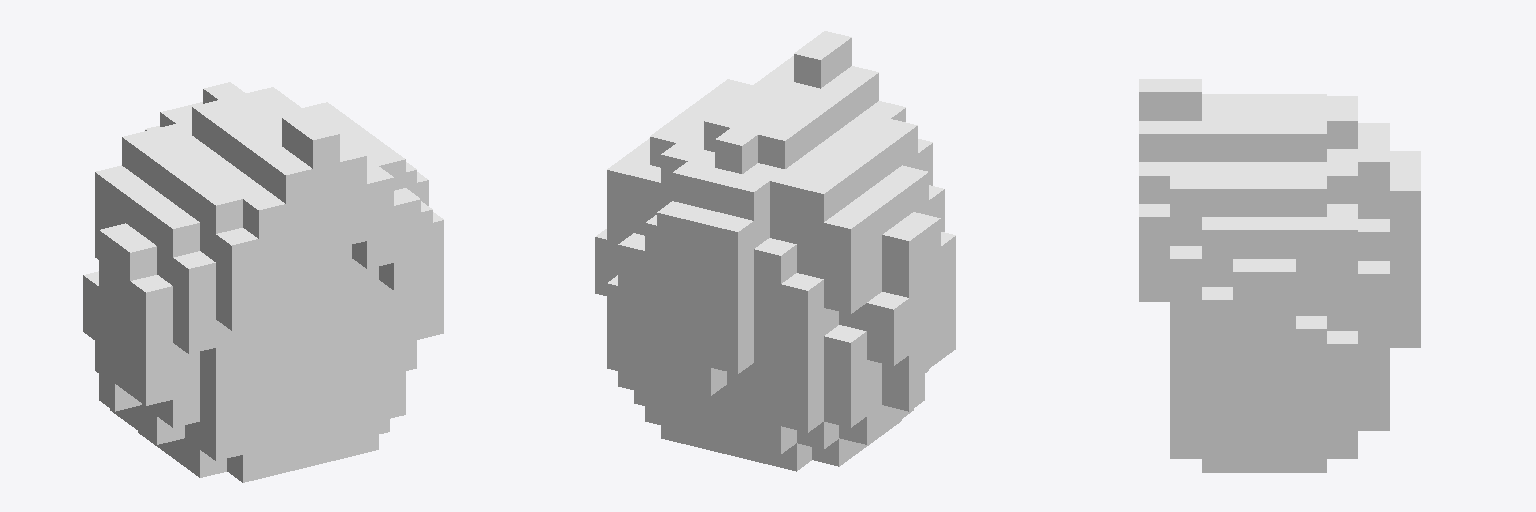
The model's file is Cubeworld_2-118-Char1_Head.obj.
3 views of the same model, side by side, from view 1: azimuth 30°, elevation 25°; view 2: azimuth 150°, elevation 25°; view 3: azimuth 270°, elevation 25° (orthographic).
Visible parts, largest first — view 1: Char1_Head; view 2: Char1_Head; view 3: Char1_Head.
Part boxes in pixels (x1,y1,x2,y2): Char1_Head: (83,82,443,482); Char1_Head: (595,31,955,471); Char1_Head: (1139,79,1420,472).
Size of the model in its own units: 1.1 by 1.2 by 0.9.